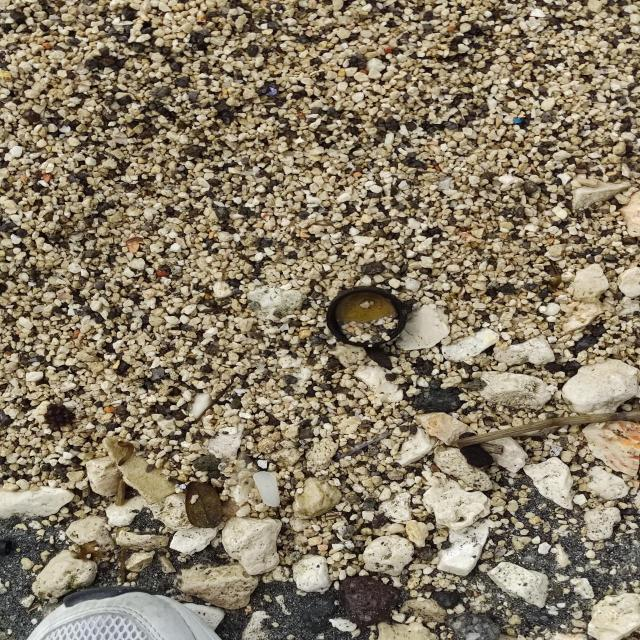plastic_waste: (325, 286, 408, 350)
